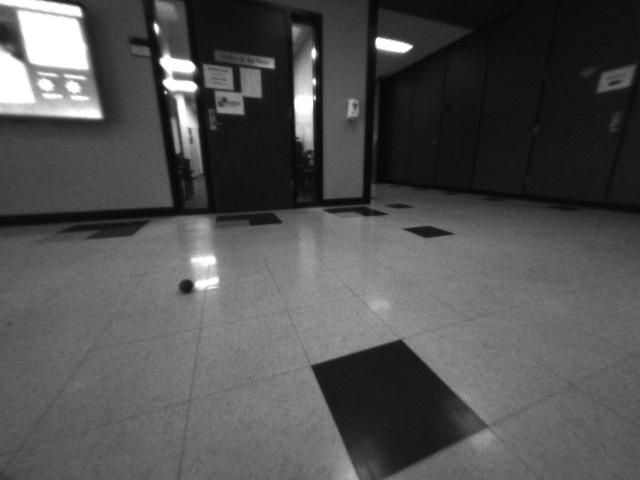dogtoy: (173, 274, 203, 298)
